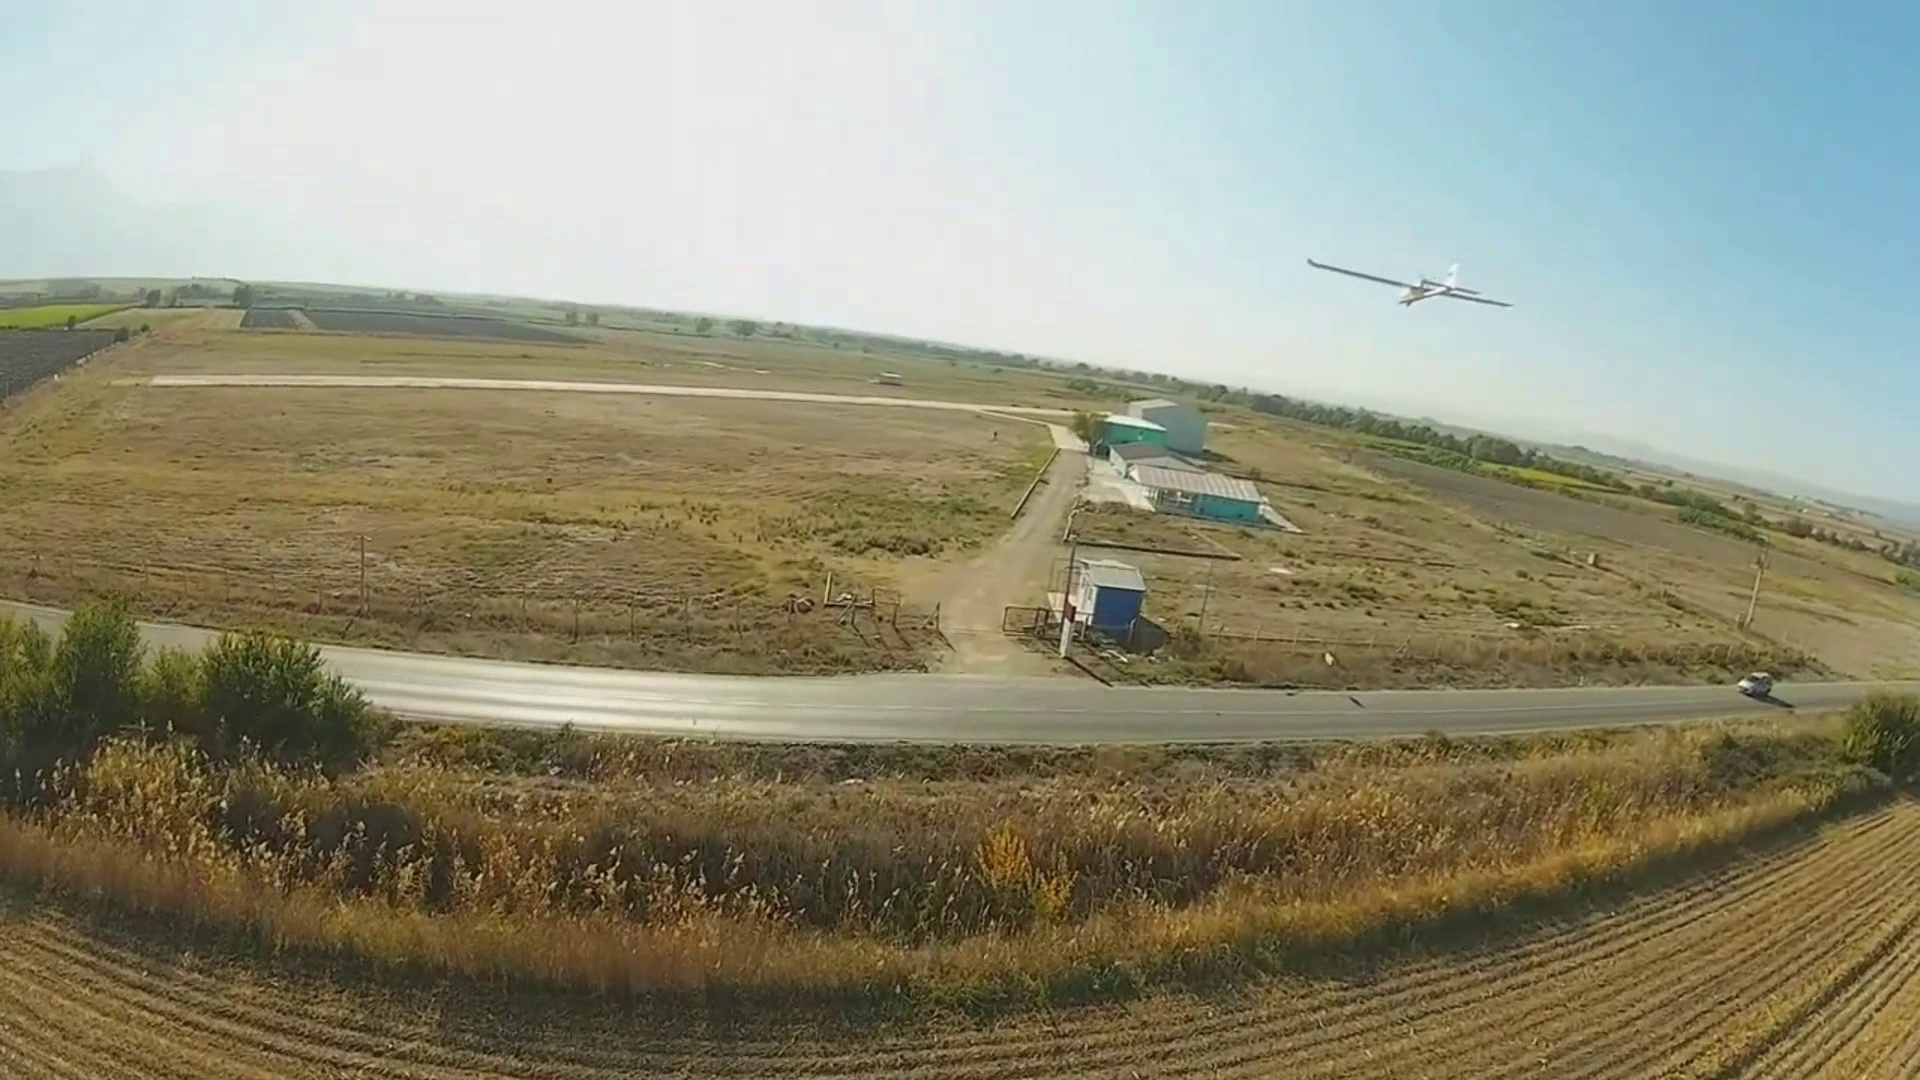airplane: (1306, 255, 1516, 310)
